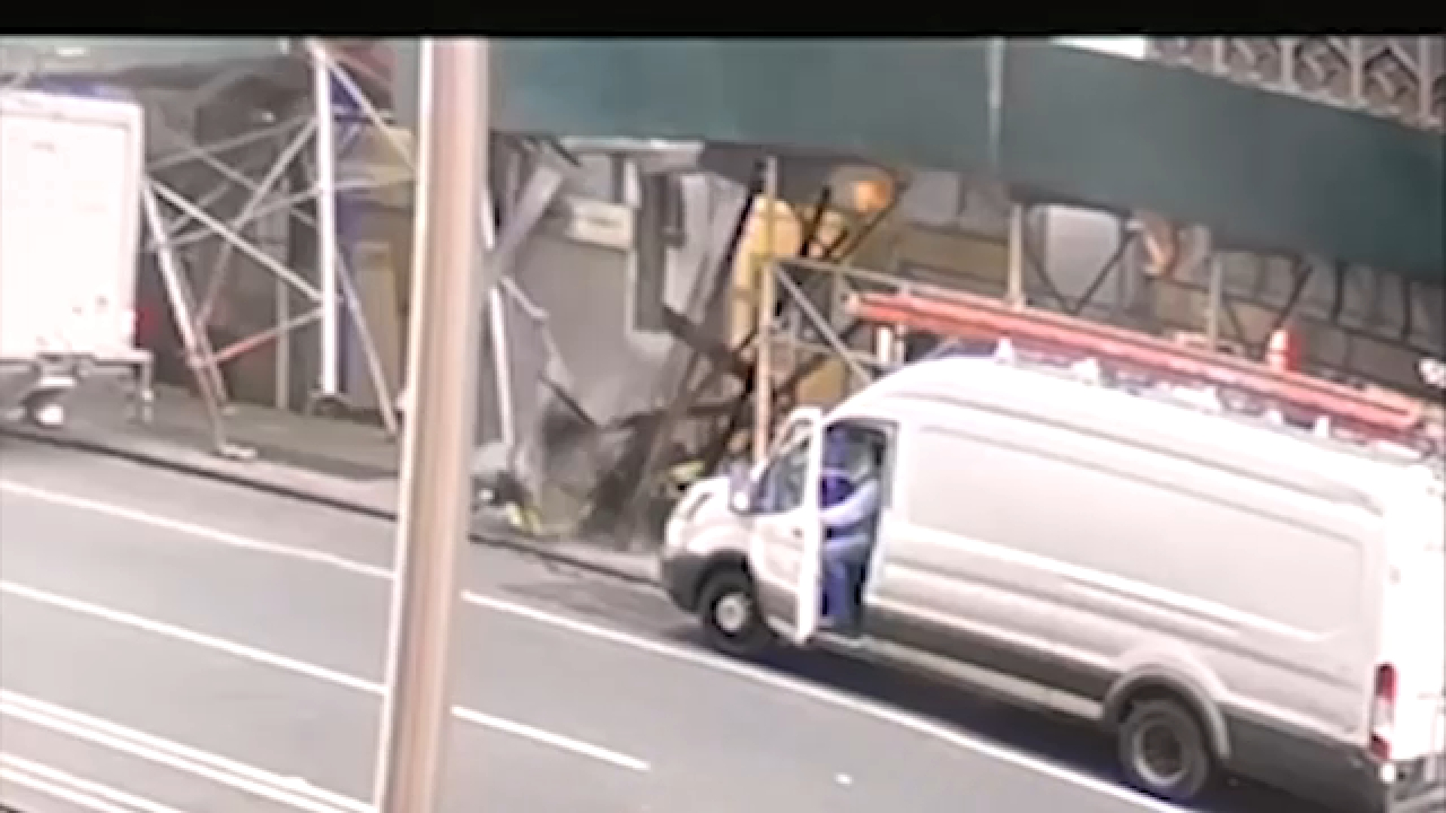Car: (598, 285, 1446, 813)
